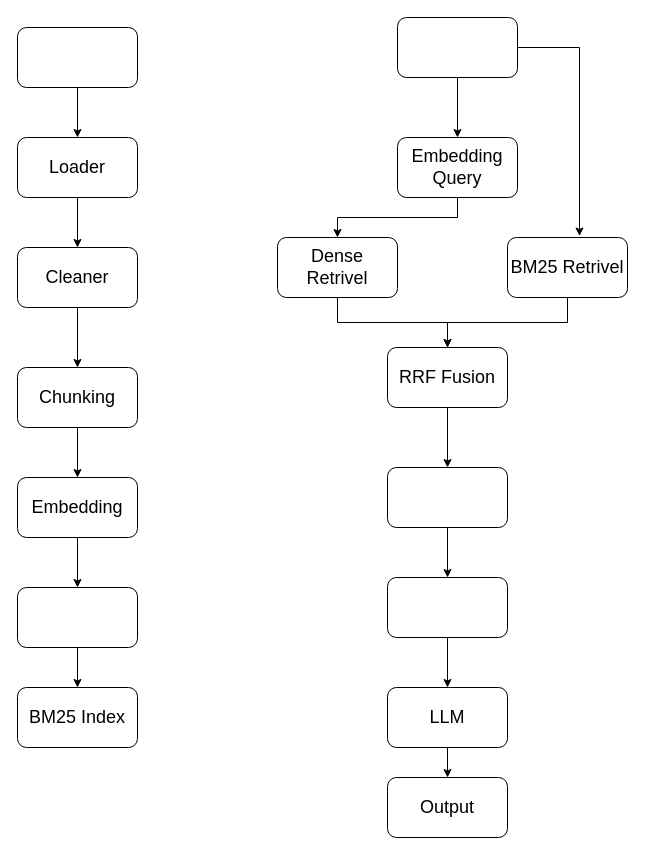
Some shapes in this 645 by 855 pixel diagram are drawn without their labels. Each missing label, with the box of its shape:
Documents: (16, 26, 138, 88)
Prompt builder: (386, 576, 508, 638)
Qdrant: (16, 586, 138, 648)
Query: (396, 16, 518, 78)
Reranking: (386, 466, 508, 528)
